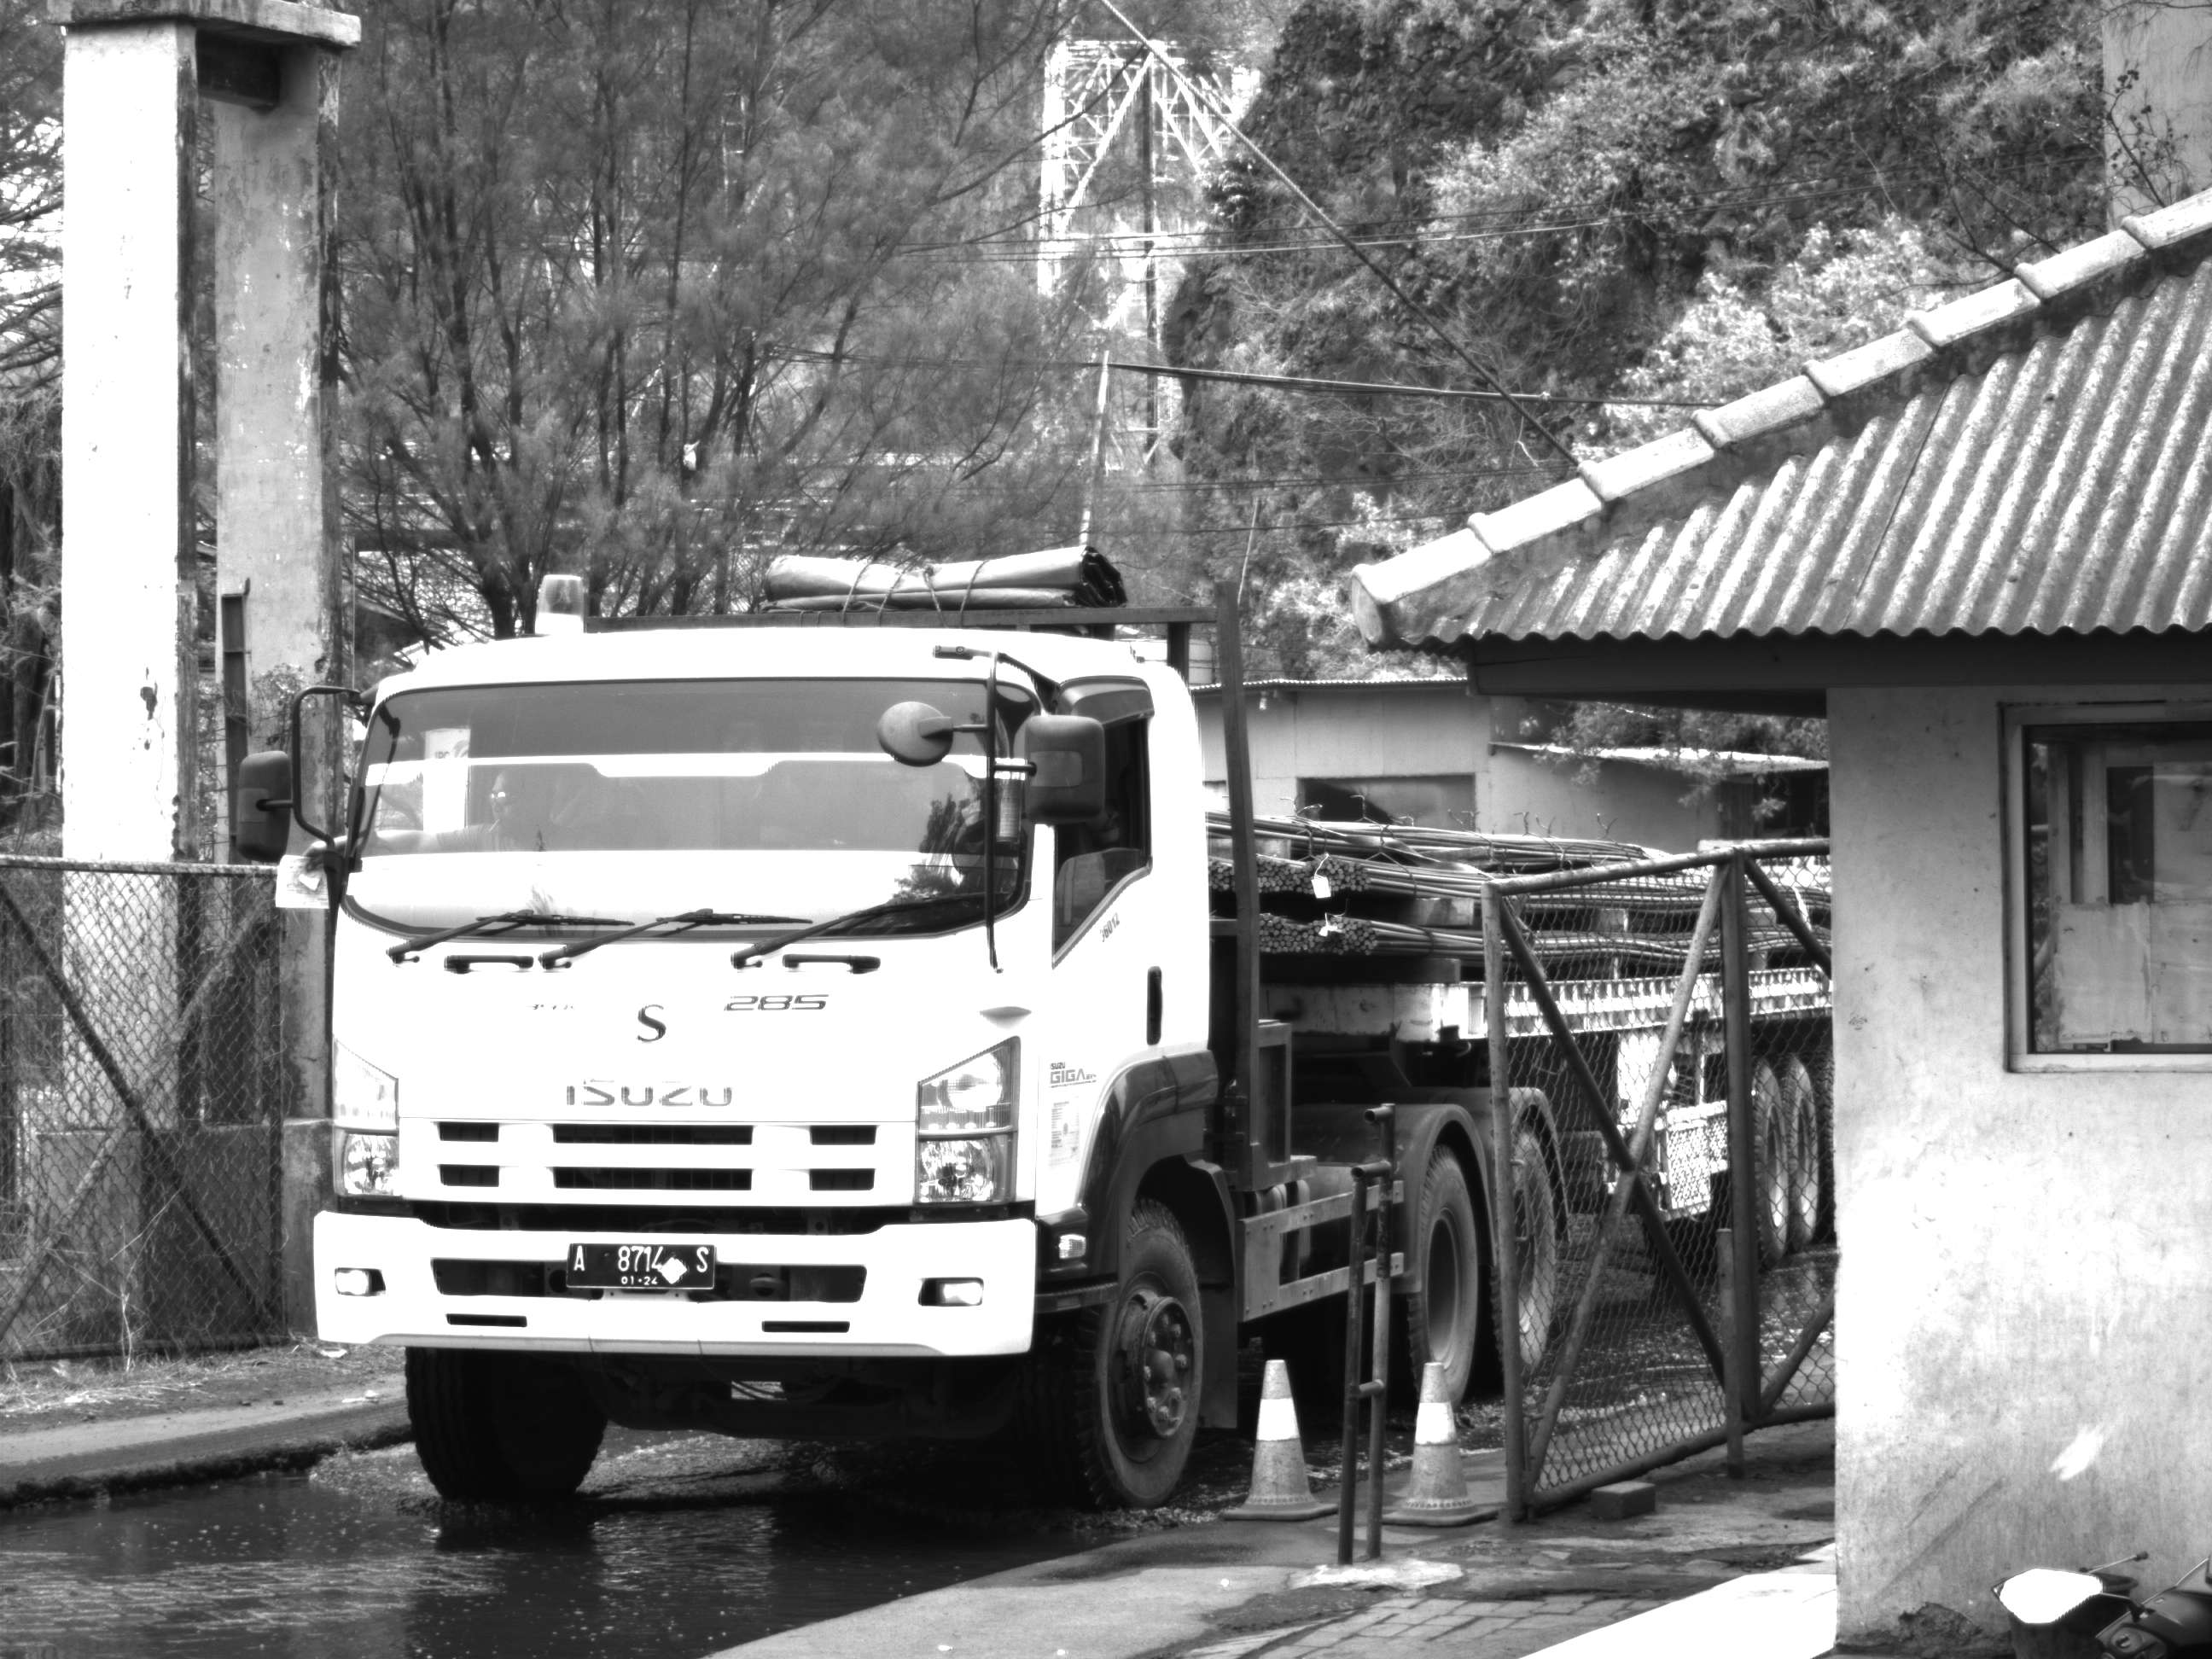day_truck_front: (249, 553, 1220, 1515)
plate: (562, 1236, 726, 1295)
